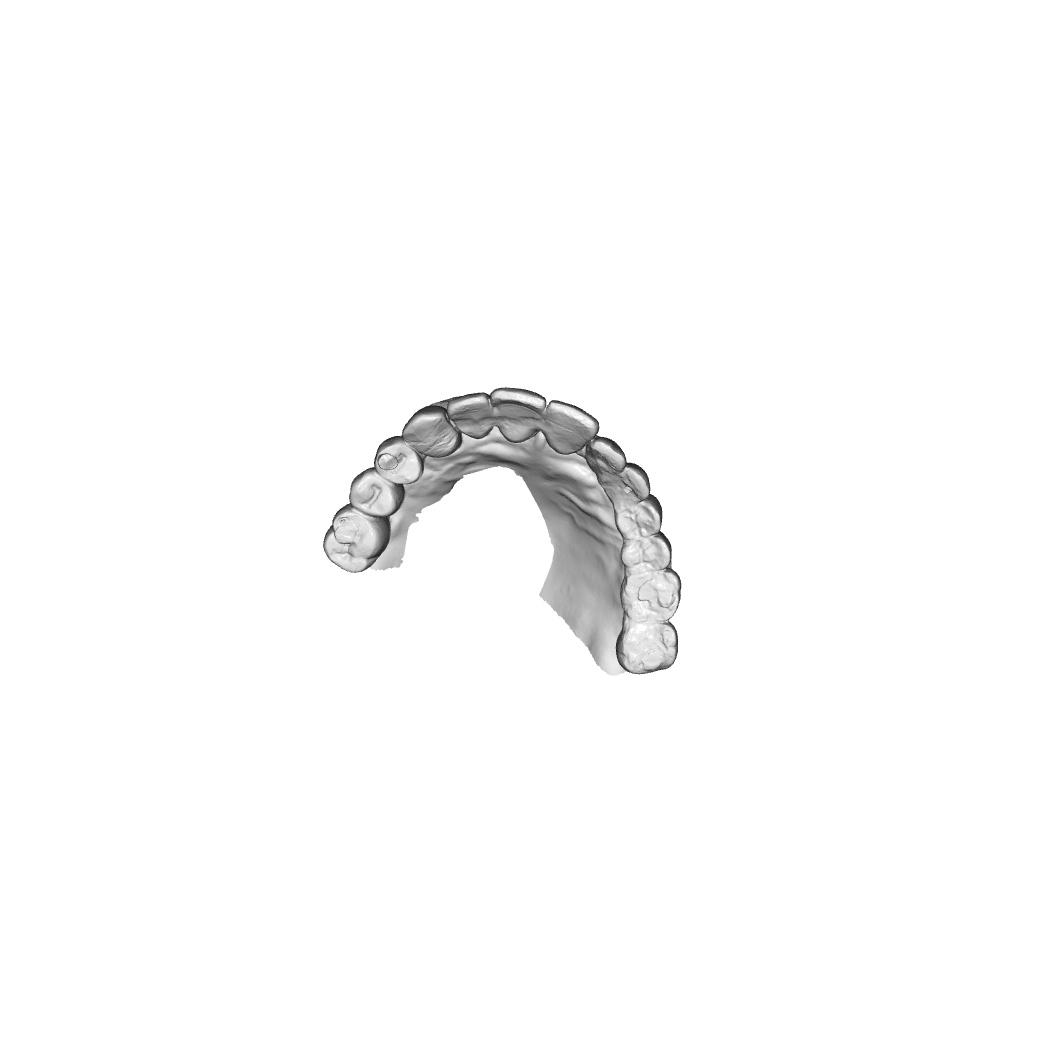canine: (402, 404, 463, 460), (602, 461, 652, 508)
incisor: (488, 386, 547, 445), (544, 399, 600, 456), (446, 391, 492, 440), (585, 436, 628, 476)
molar: (323, 503, 391, 574), (615, 620, 681, 675), (619, 567, 682, 620)
premolar: (348, 466, 406, 518), (373, 435, 425, 485), (614, 493, 663, 540), (620, 530, 673, 571)
